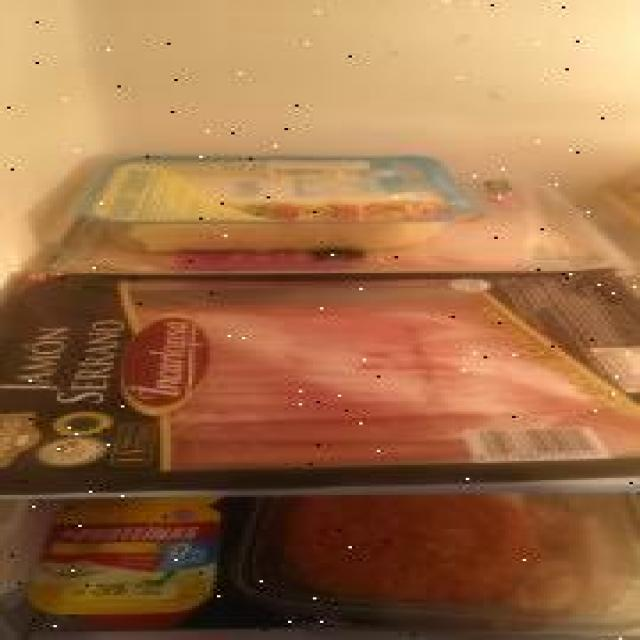cheese: (74, 153, 477, 254)
